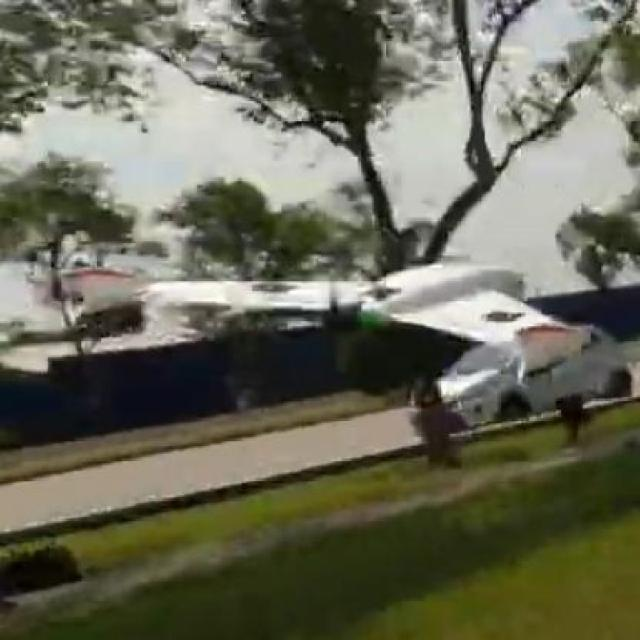iha: (40, 256, 597, 385)
